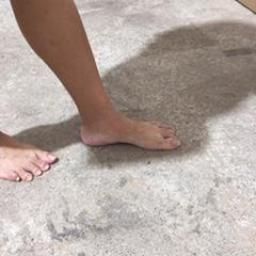Medial View -Left Foot-: (72, 94, 184, 167)
